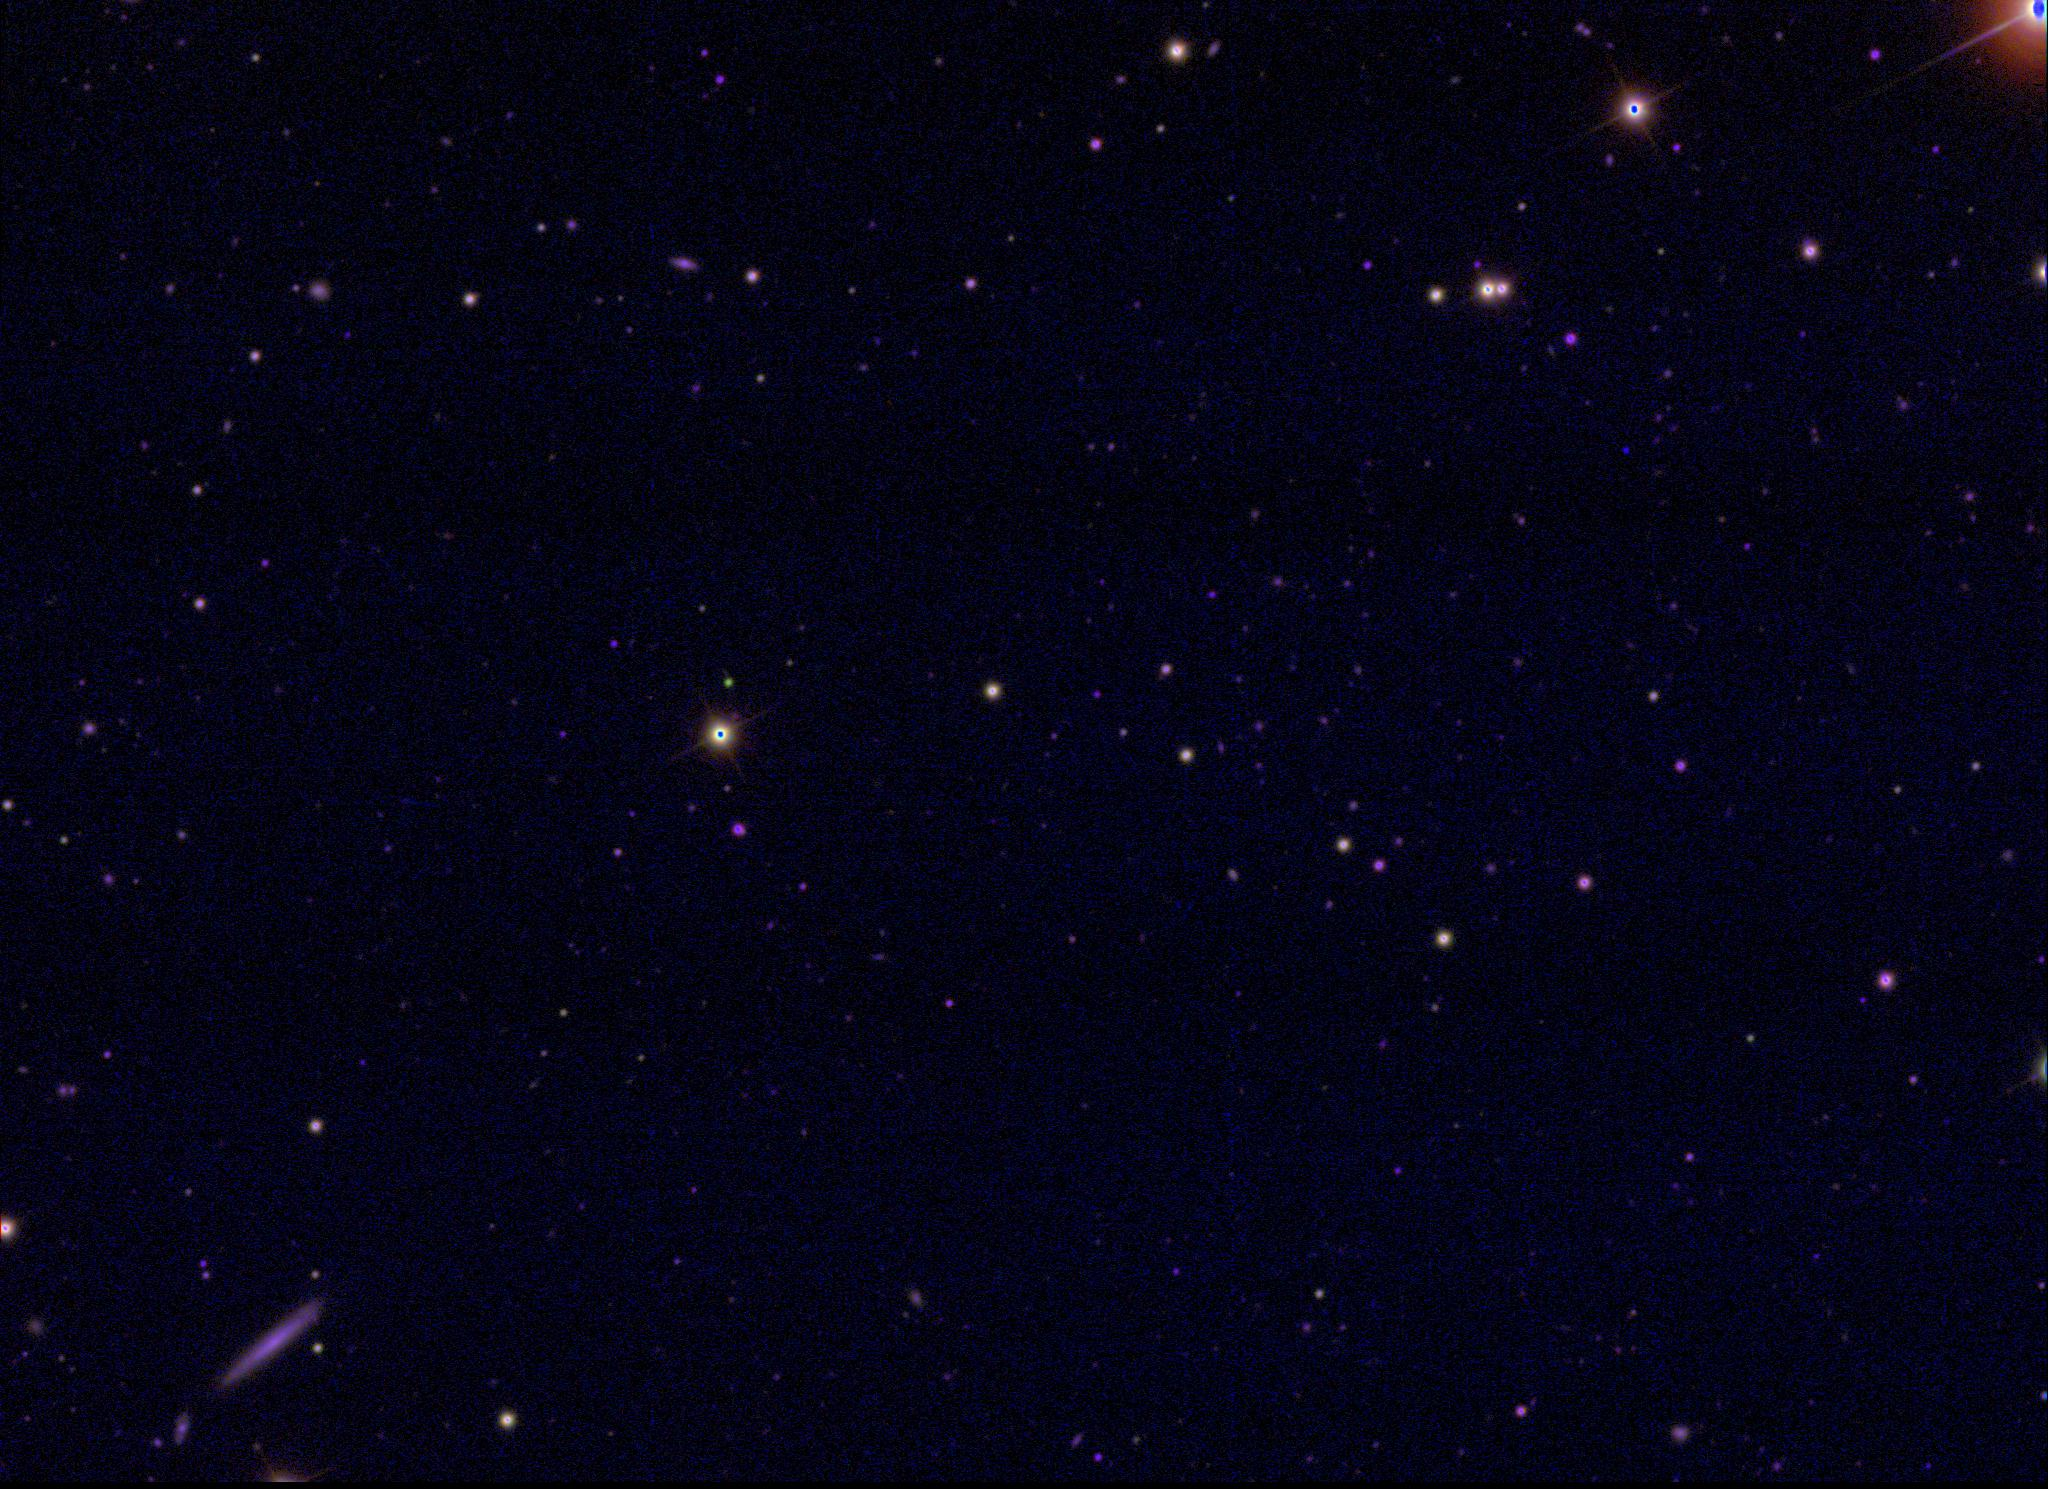L: (1620, 445, 1635, 460)
